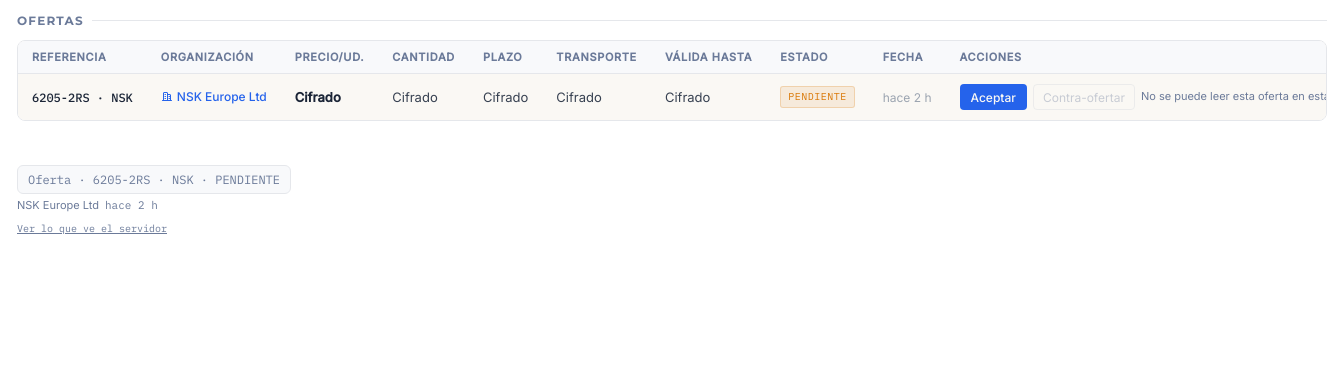
el panel de vista-servidor (Plan §3, día 11) › cerrarlo vuelve a ocultar el ciphertext
The width and height of the screenshot is (1344, 379).
Click the button "Ver lo que ve el servidor": click(92, 228) [17,222,167,235]
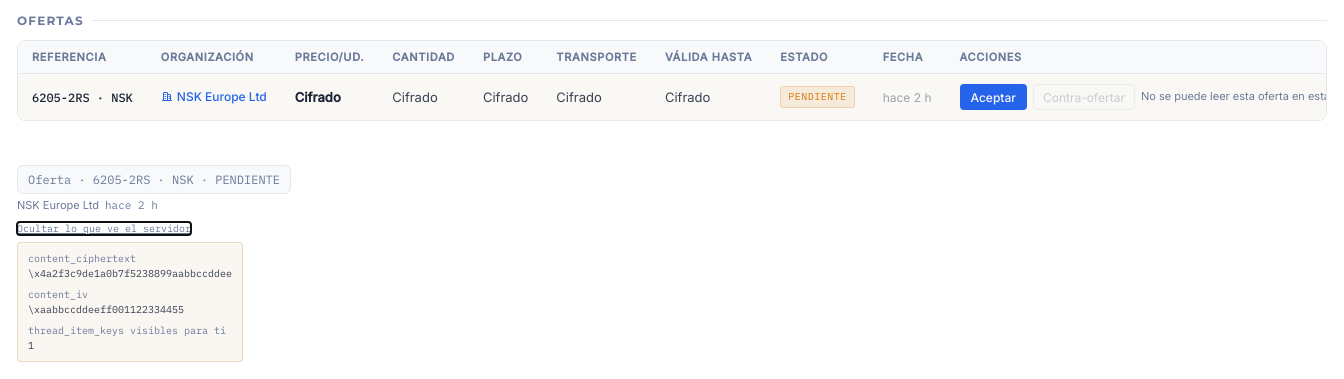
Expected: the text "\\x4a2f3c9de1a0b7f5238899aabbccddee" is shown, [28,266,232,281]
Click the button "Ocultar lo que ve el servidor": click(104, 228) [17,222,191,235]
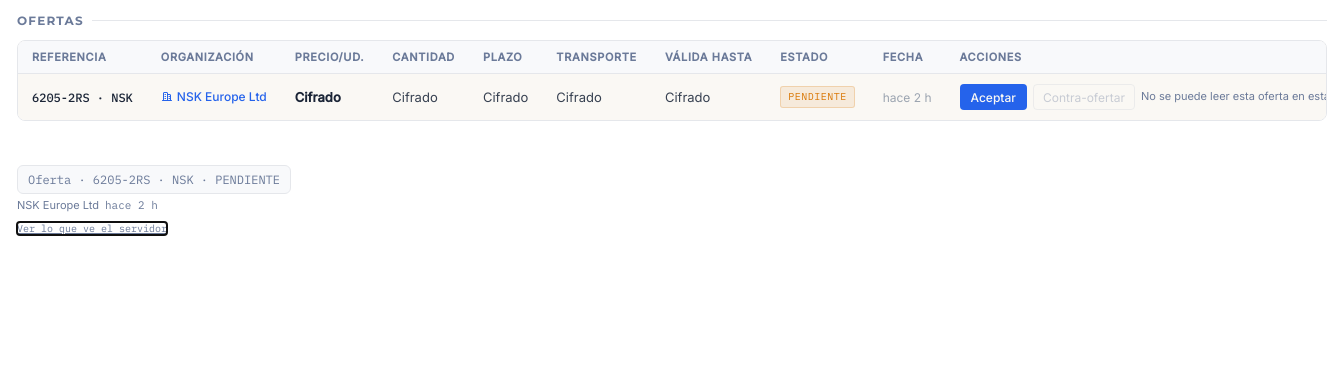
Expected: the text "4a2f3c9de1a0b7f5" is gone
